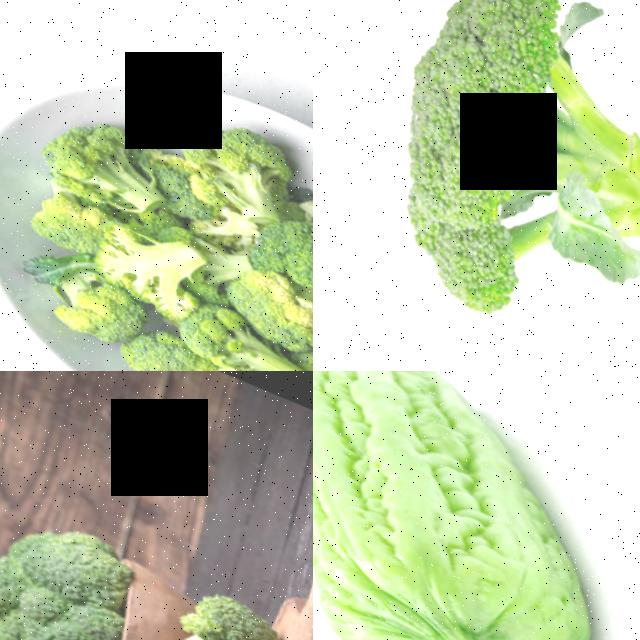bitter gourd: (313, 371, 640, 640)
broccoli: (313, 0, 640, 371), (0, 495, 132, 640), (164, 98, 292, 216), (17, 109, 154, 212), (205, 253, 313, 364), (151, 566, 308, 640), (25, 260, 137, 353), (93, 215, 203, 306), (113, 326, 222, 371)
